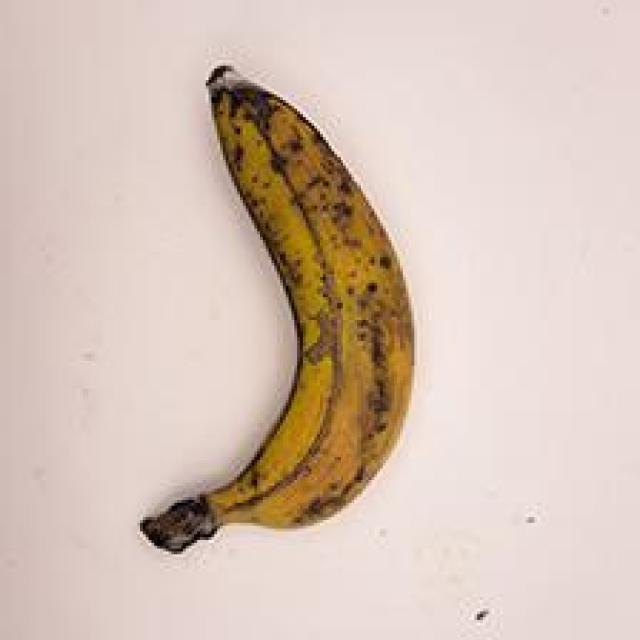Overripe: (101, 21, 440, 578)
